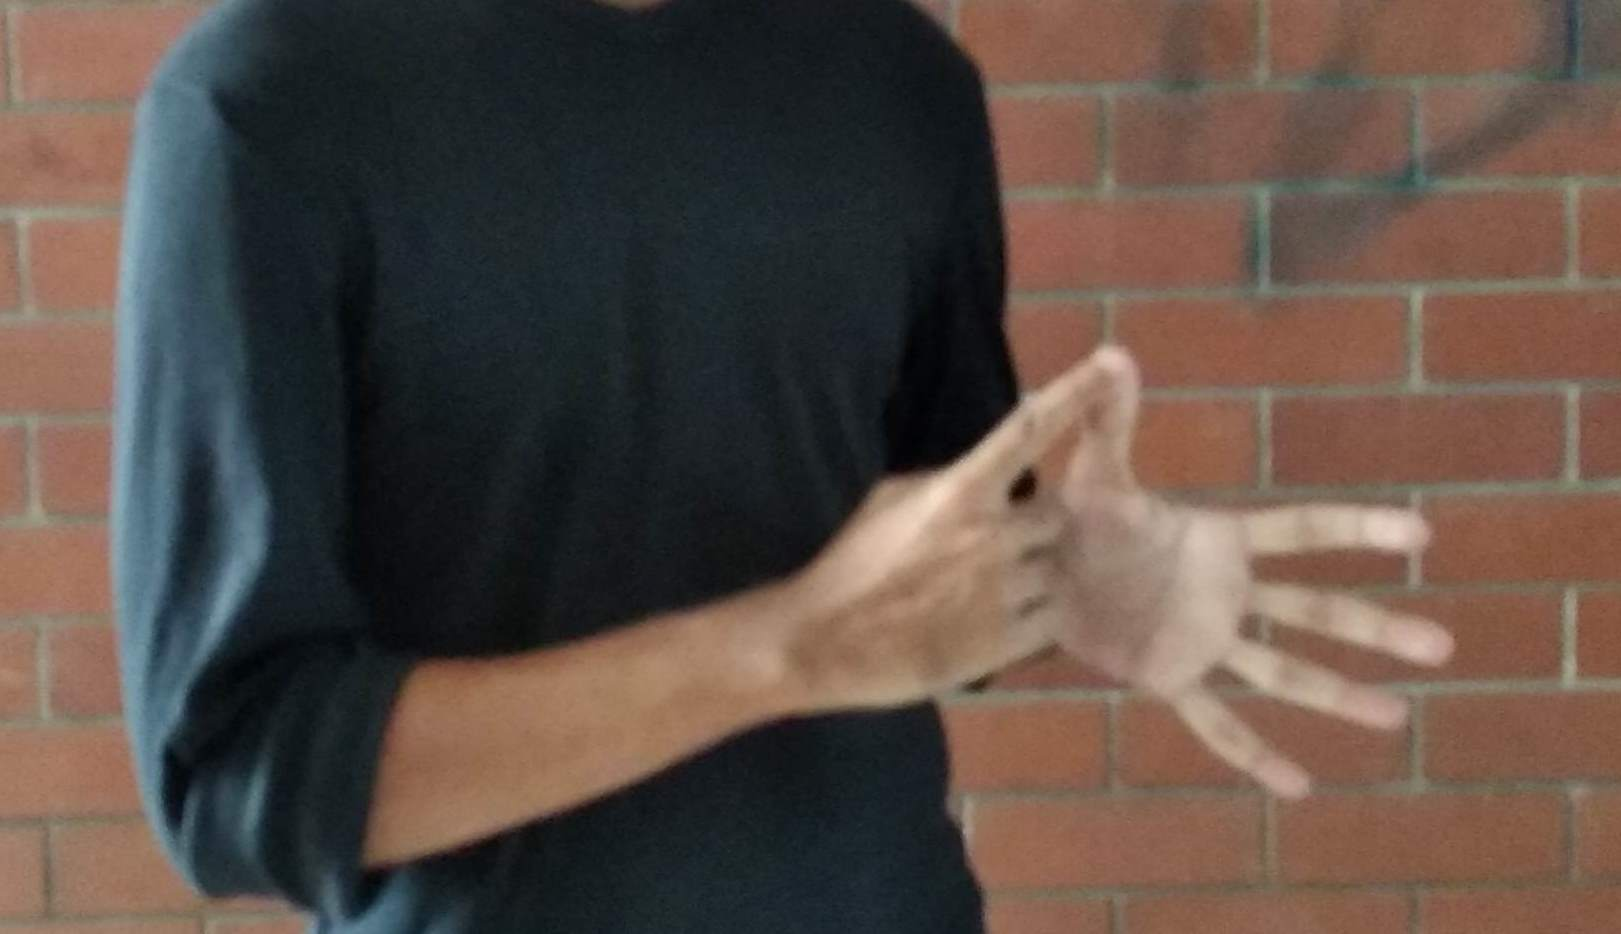a: (930, 370, 1346, 775)
